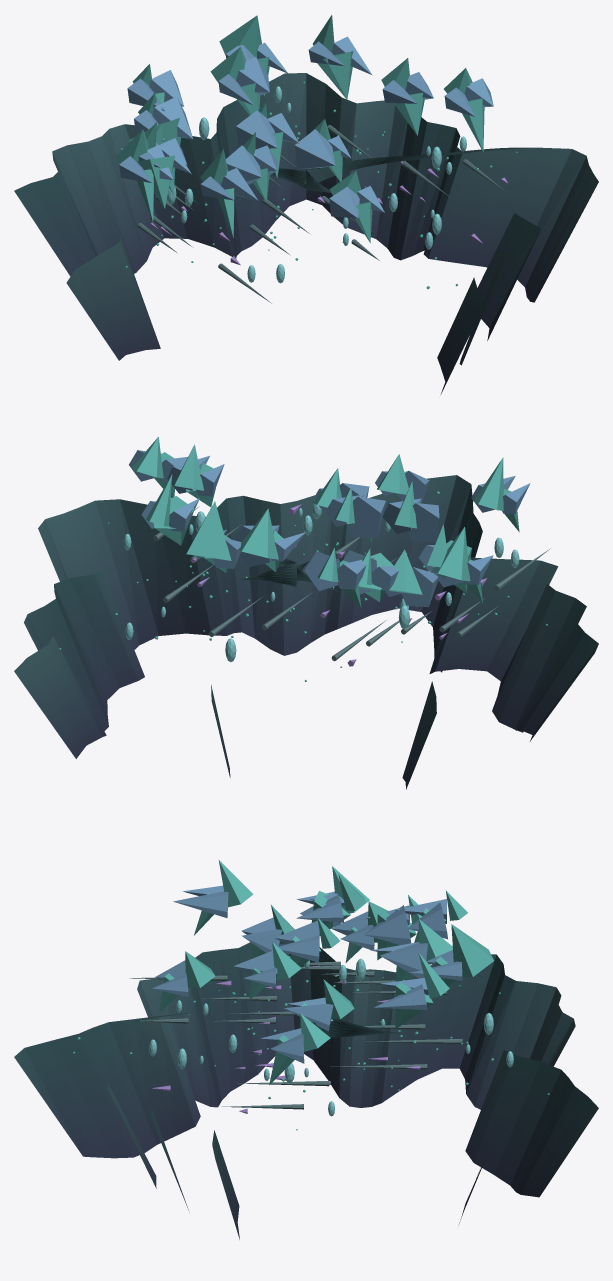
Rendered from hexcore_living_landscape_08.glb.
3 renders of one model, top to bottom at view 1: azimuth 30°, elevation 25°; view 2: azimuth 150°, elevation 25°; view 3: azimuth 270°, elevation 25°, orthographic. The views are drawn at different scales.
Parts seen in each view (by area): view 1: ELVEN_GROWN_TERRAIN, SCULPTURAL_ELVEN_CANOPIES, BIO_LUMINESCENT_GROUND_LIFE; view 2: ELVEN_GROWN_TERRAIN, SCULPTURAL_ELVEN_CANOPIES, BIO_LUMINESCENT_GROUND_LIFE; view 3: ELVEN_GROWN_TERRAIN, SCULPTURAL_ELVEN_CANOPIES, BIO_LUMINESCENT_GROUND_LIFE.
Part boxes in pixels (<box>): ELVEN_GROWN_TERRAIN: <box>14,73,598,394</box>; SCULPTURAL_ELVEN_CANOPIES: <box>115,15,505,303</box>; BIO_LUMINESCENT_GROUND_LIFE: <box>120,81,517,289</box>; ELVEN_GROWN_TERRAIN: <box>14,475,598,789</box>; SCULPTURAL_ELVEN_CANOPIES: <box>129,437,550,661</box>; BIO_LUMINESCENT_GROUND_LIFE: <box>59,491,547,681</box>; ELVEN_GROWN_TERRAIN: <box>14,942,598,1239</box>; SCULPTURAL_ELVEN_CANOPIES: <box>129,860,493,1109</box>; BIO_LUMINESCENT_GROUND_LIFE: <box>73,956,549,1130</box>.
Size of the model in its own units: 94.36 by 45.47 by 94.27.
